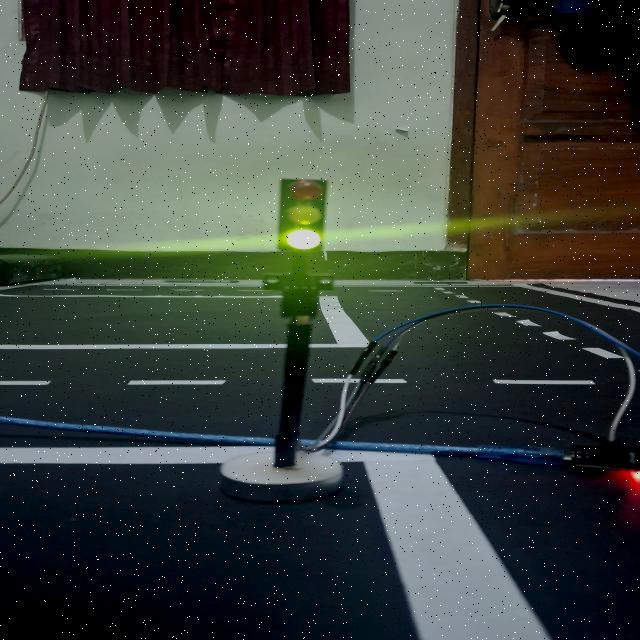Lampu Hijau: (277, 178, 326, 252)
